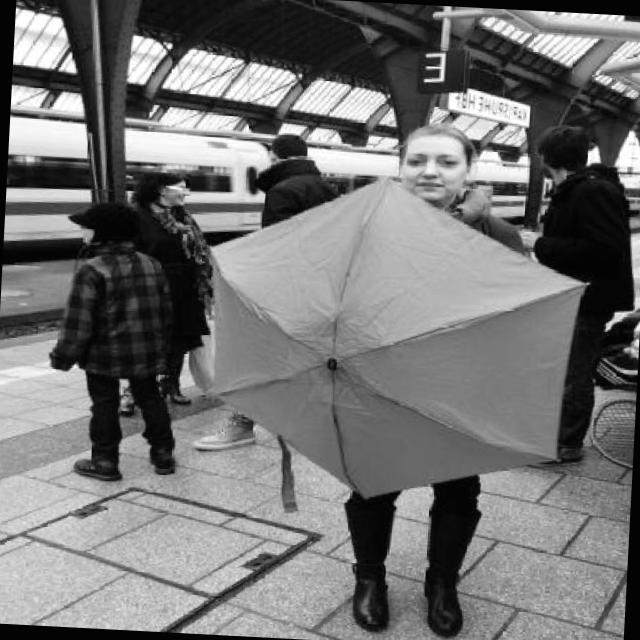Person: (341, 118, 525, 640), (39, 199, 192, 482), (514, 124, 638, 472), (112, 165, 224, 421), (254, 130, 348, 233)
